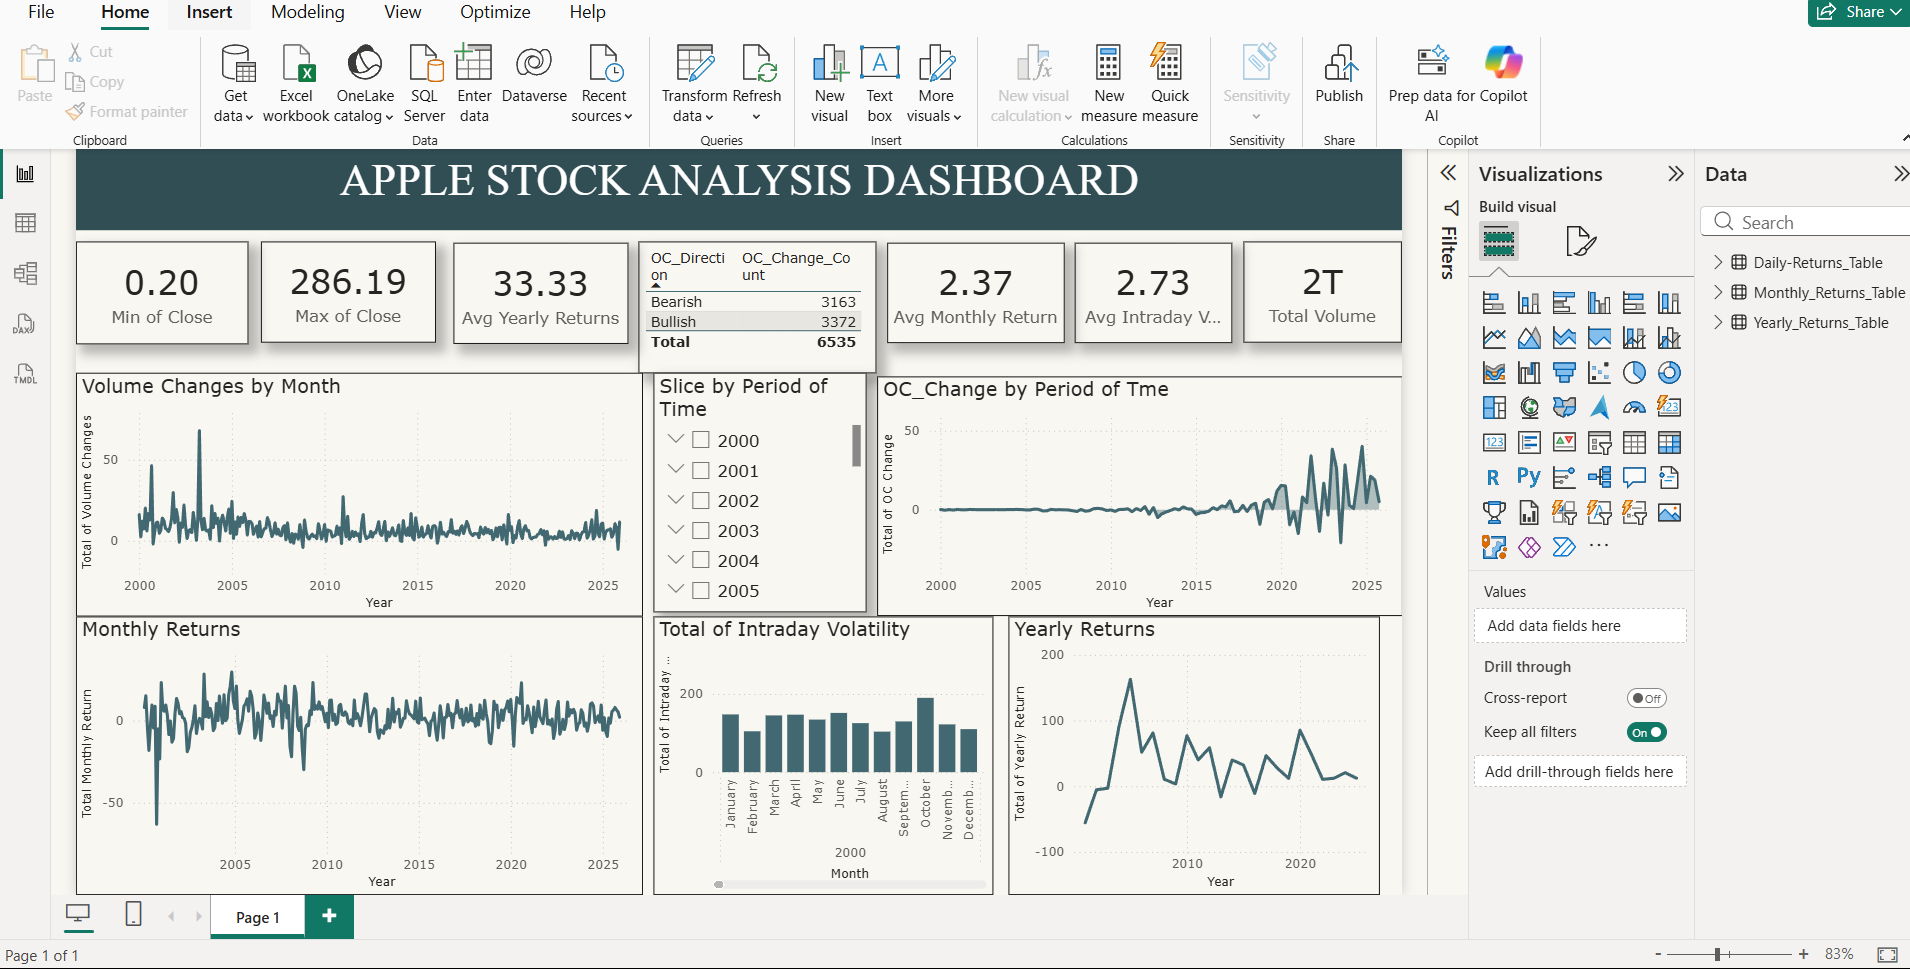

Layout of this report page (visuals, bound fields, positions):
{"tool":"powerbi","page":{"name":"Page 1","canvas":[1280,720],"ordinal":0},"visuals":[{"type":"card","fields":{"Values":["Max(Daily-Returns_Table.Close)"]},"box":[178.5,89.3,168.8,97.8],"z":0},{"type":"actionButton","box":[0,0,100,40],"z":1000},{"type":"card","fields":{"Values":["Min(Daily-Returns_Table.Close)"]},"box":[0,89.3,166.3,99],"z":2000},{"type":"card","fields":{"Values":["Sum(Daily-Returns_Table.Volume)"]},"box":[1126.2,89.3,152.9,97.8],"z":3000},{"type":"tableEx","fields":{"Values":["Daily-Returns_Table.OC_Direction","CountNonNull(Daily-Returns_Table.OC_Change)"]},"box":[542.9,89.3,229.9,127.2],"z":4000},{"type":"slicer","title":"Slice by Period of Time","fields":{"Values":["Daily-Returns_Table.Date.Variation.Date Hierarchy.Year","Daily-Returns_Table.Date.Variation.Date Hierarchy.Quarter","Daily-Returns_Table.Date.Variation.Date Hierarchy.Month","Daily-Returns_Table.Date.Variation.Date Hierarchy.Day"]},"box":[557.6,216.4,205.4,231.1],"z":5000},{"type":"card","fields":{"Values":["Avg(Daily-Returns_Table.Intraday_Volatility_%)"]},"box":[963.6,90.5,151.6,96.6],"z":6000},{"type":"lineChart","title":"Volume Changes by Month","fields":{"Y":["Avg(Daily-Returns_Table.Volume_Change_%)"],"Category":["Daily-Returns_Table.Date.Variation.Date Hierarchy.Year","Daily-Returns_Table.Date.Variation.Date Hierarchy.Month"]},"box":[0,216.3,547.1,235.2],"z":7000},{"type":"areaChart","title":"OC_Change by Period of Tme","fields":{"Category":["Daily-Returns_Table.Date.Variation.Date Hierarchy.Year","Daily-Returns_Table.Date.Variation.Date Hierarchy.Quarter","Daily-Returns_Table.Date.Variation.Date Hierarchy.Month","Daily-Returns_Table.Date.Variation.Date Hierarchy.Day"],"Y":["Sum(Daily-Returns_Table.OC_Change)"]},"box":[773.4,220.1,506.8,231.4],"z":8000},{"type":"lineClusteredColumnComboChart","title":"Total of Intraday Volatility ","fields":{"Category":["Daily-Returns_Table.Date.Variation.Date Hierarchy.Year","Daily-Returns_Table.Date.Variation.Date Hierarchy.Month"],"Y":["Sum(Daily-Returns_Table.Intraday_Volatility_%)"]},"box":[557.6,451.2,327.7,269],"z":9000},{"type":"lineChart","title":"Monthly Returns","fields":{"Category":["Monthly_Returns_Table.Date.Variation.Date Hierarchy.Year","Monthly_Returns_Table.Date.Variation.Date Hierarchy.Month"],"Y":["Sum(Monthly_Returns_Table.Monthly_Return_%)"]},"box":[0,451.5,547.1,269.1],"z":10000},{"type":"lineChart","title":"Yearly Returns","fields":{"Category":["Yearly_Returns_Table.Date.Variation.Date Hierarchy.Year","Yearly_Returns_Table.Date.Variation.Date Hierarchy.Quarter","Yearly_Returns_Table.Date.Variation.Date Hierarchy.Month","Yearly_Returns_Table.Date.Variation.Date Hierarchy.Day"],"Y":["Sum(Yearly_Returns_Table.Yearly_Return_%)"]},"box":[900,451.2,358.3,269],"z":11000},{"type":"textbox","box":[0,0,1280.3,78.3],"z":12000},{"type":"card","fields":{"Values":["Avg(Monthly_Returns_Table.Monthly_Return_%)"]},"box":[782.6,90.5,171.2,96.6],"z":13000},{"type":"card","fields":{"Values":["Avg(Yearly_Returns_Table.Yearly_Return_%)"]},"box":[364.4,90.5,168.8,97.8],"z":14000}]}

Visuals, with their boxes on the page's 1280x720 design canvas (x1, y1, x2, y2). These are canvas units, not pixel positions in the 1910x969 screenshot, which may show the page scaled, cropped or inside an application window:
card - Max(Daily-Returns_Table.Close): rect(178, 89, 347, 187)
actionButton: rect(0, 0, 100, 40)
card - Min(Daily-Returns_Table.Close): rect(0, 89, 166, 188)
card - Sum(Daily-Returns_Table.Volume): rect(1126, 89, 1279, 187)
tableEx - Daily-Returns_Table.OC_Direction x CountNonNull(Daily-Returns_Table.OC_Change): rect(543, 89, 773, 216)
"Slice by Period of Time" slicer: rect(558, 216, 763, 448)
card - Avg(Daily-Returns_Table.Intraday_Volatility_%): rect(964, 90, 1115, 187)
"Volume Changes by Month" lineChart: rect(0, 216, 547, 452)
"OC_Change by Period of Tme" areaChart: rect(773, 220, 1280, 452)
"Total of Intraday Volatility " lineClusteredColumnComboChart: rect(558, 451, 885, 720)
"Monthly Returns" lineChart: rect(0, 452, 547, 721)
"Yearly Returns" lineChart: rect(900, 451, 1258, 720)
textbox: rect(0, 0, 1280, 78)
card - Avg(Monthly_Returns_Table.Monthly_Return_%): rect(783, 90, 954, 187)
card - Avg(Yearly_Returns_Table.Yearly_Return_%): rect(364, 90, 533, 188)
